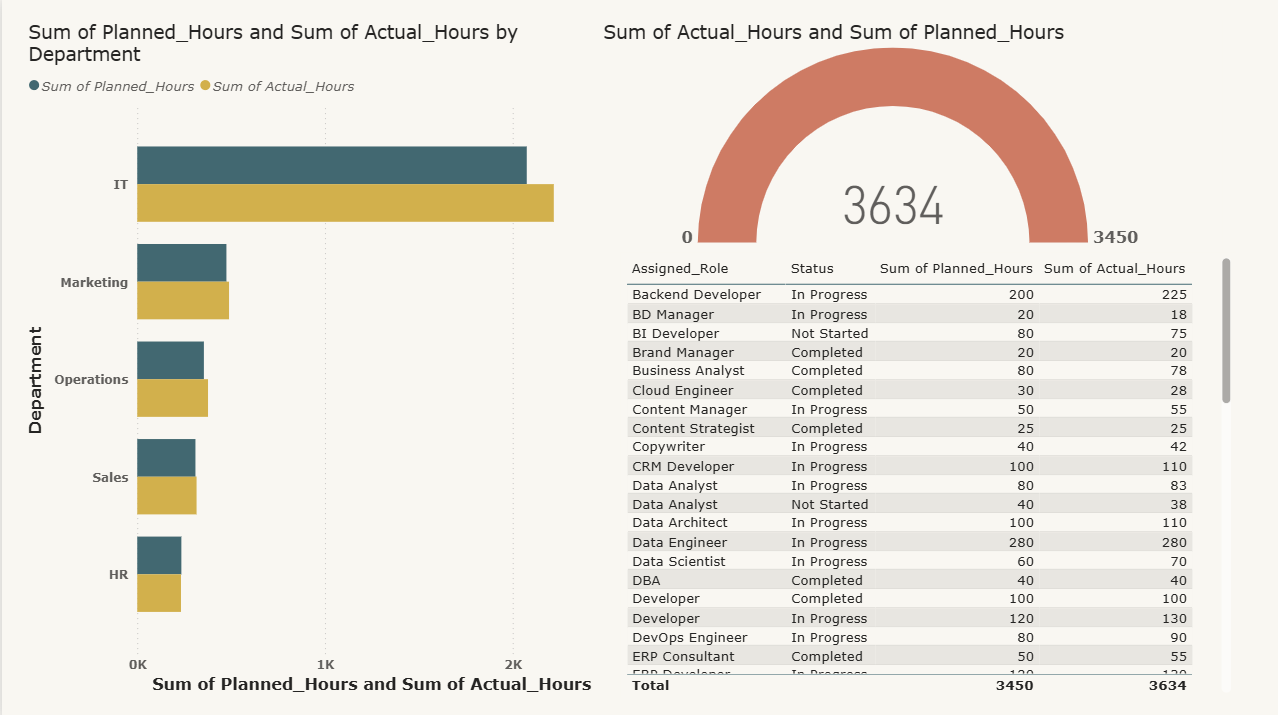

What the dashboard file says about the page in this screenshot:
{"tool":"powerbi","page":{"name":"task and hrs","canvas":[1280,720],"ordinal":1},"visuals":[{"type":"clusteredBarChart","fields":{"Category":["projects.Department"],"Y":["Sum(tasks.Planned_Hours)","Sum(tasks.Actual_Hours)"]},"box":[21.2,21.2,597.5,677.5],"z":0},{"type":"gauge","fields":{"Y":["Sum(tasks.Actual_Hours)"],"MaxValue":["Sum(tasks.Planned_Hours)"]},"box":[596.2,21.2,623.8,232.5],"z":1},{"type":"tableEx","fields":{"Values":["tasks.Assigned_Role","tasks.Status","Sum(tasks.Planned_Hours)","Sum(tasks.Actual_Hours)"]},"box":[618.8,253.8,615,445],"z":2}]}

Visuals, with their boxes in screenshot pixels (x1, y1, x2, y2), scaled from the page's 1280x720 canvas onto the 1278x715 screenshot:
clusteredBarChart - projects.Department x Sum(tasks.Planned_Hours): x1=21, y1=21, x2=618, y2=694
gauge - Sum(tasks.Actual_Hours) x Sum(tasks.Planned_Hours): x1=595, y1=21, x2=1218, y2=252
tableEx - tasks.Assigned_Role x tasks.Status: x1=618, y1=252, x2=1232, y2=694
